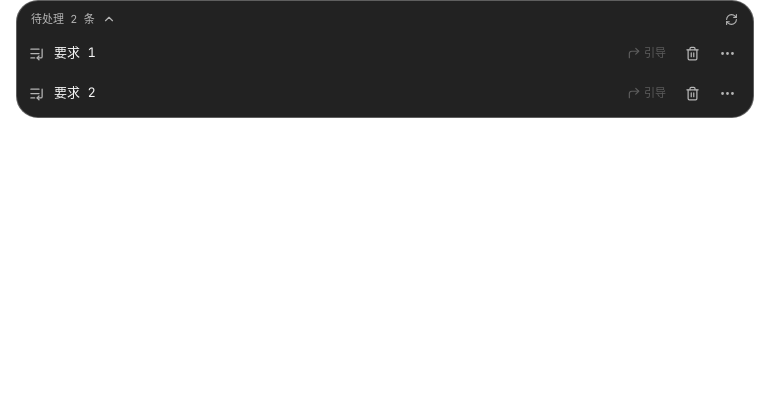
Test: retains rejected edits and requires explicit adoption of the latest revision
Expected: the text "待处理 2 条" is shown, [31,11,95,27]
Click the button named "消息 1 的更多操作": coordinates (727, 53) [713,39,741,67]
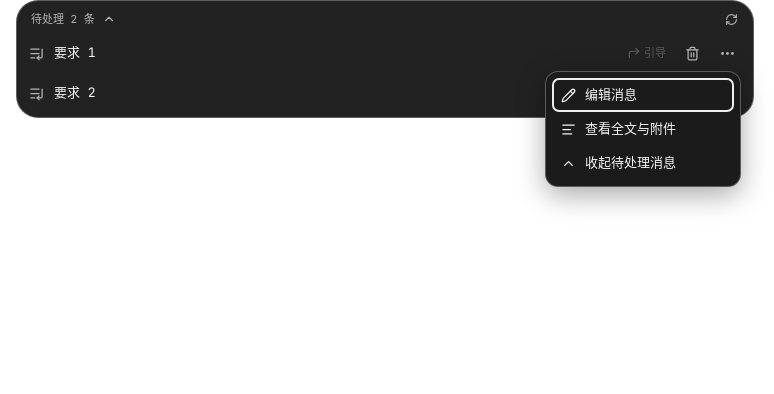
Click the menu item "编辑消息": coordinates (643, 95) [552,78,734,112]
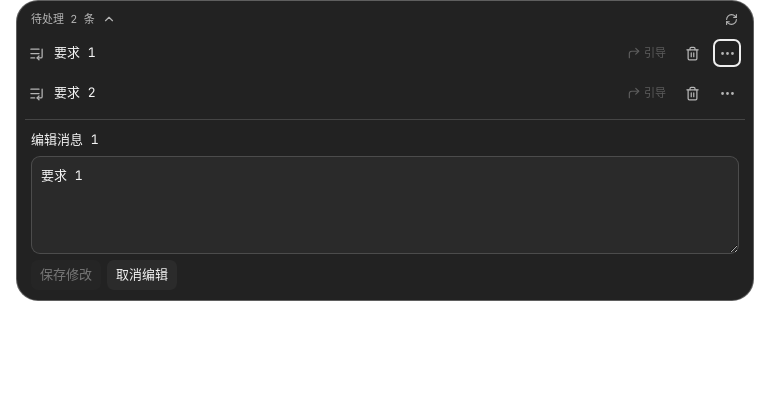
Replace the text in the text box labelled "编辑消息 1" with "保留我的版本": coordinates (385, 204) [31,156,739,254]
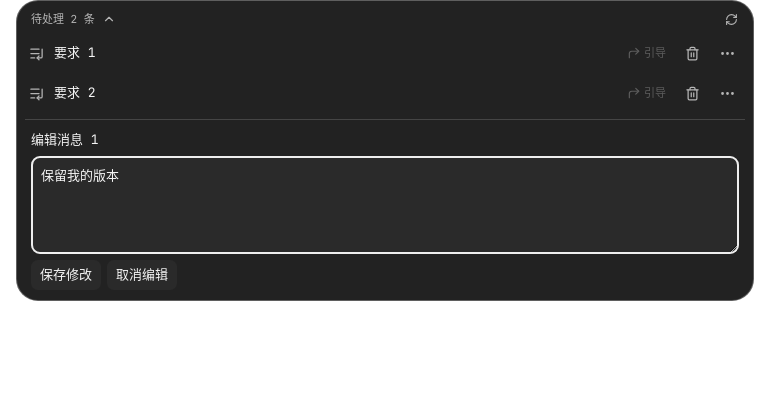
Click the button "保存修改": coordinates (66, 274) [31,260,101,290]
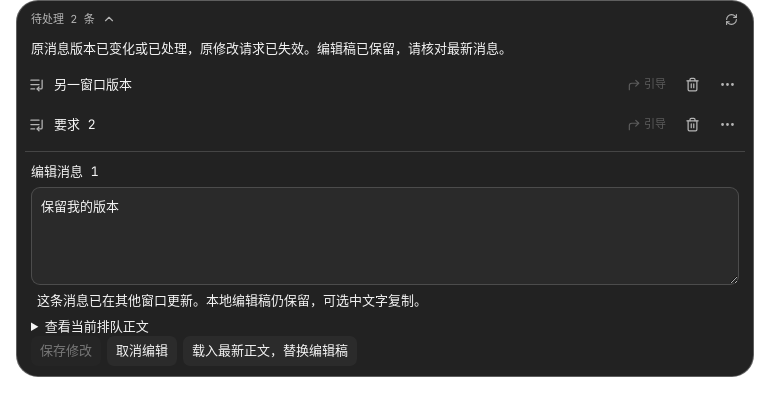
Expected: the text "原消息版本已变化或已处理，原修改请求已失效。编辑稿已保留，请核对最新消息。" is shown, [31,40,512,57]
Click the button "载入最新正文，替换编辑稿": coordinates (270, 351) [183,336,357,366]
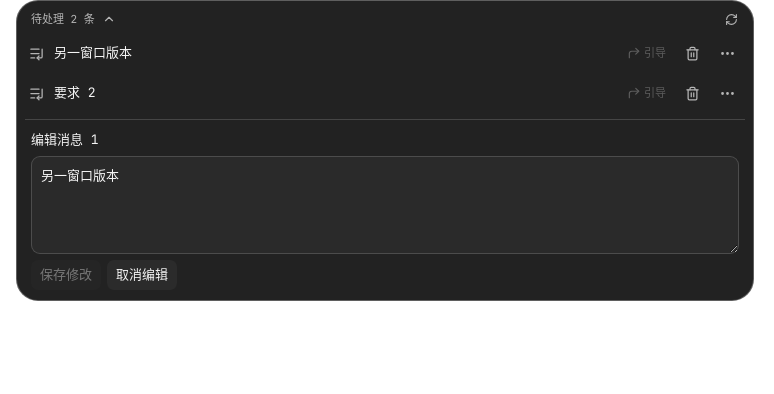
Expected: the text box labelled "编辑消息 1" holds "另一窗口版本", [31,156,739,254]
